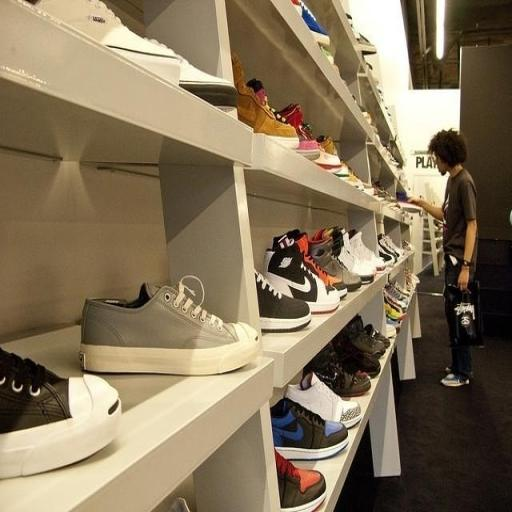shoe: (31, 0, 237, 111), (80, 276, 262, 376), (0, 349, 122, 478), (30, 0, 180, 85), (231, 54, 299, 150), (263, 240, 340, 314), (274, 229, 348, 299), (270, 398, 349, 460), (285, 372, 362, 429), (302, 342, 372, 398), (314, 226, 376, 284), (255, 271, 311, 332), (274, 449, 326, 512), (308, 237, 362, 292), (276, 103, 320, 160), (332, 315, 386, 357), (348, 229, 390, 271), (300, 0, 330, 47), (346, 13, 377, 55), (364, 324, 390, 348), (440, 374, 470, 388), (170, 497, 190, 512)
